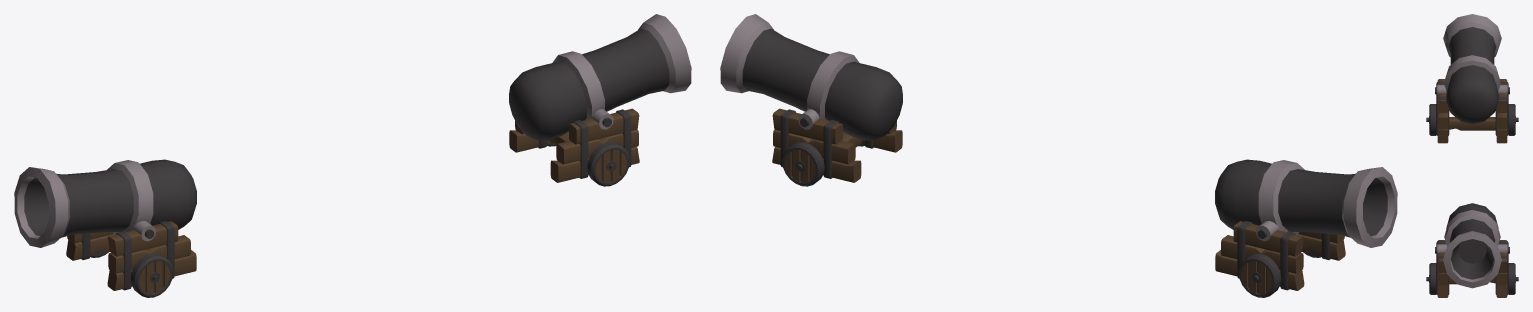
File: nau inimiga canhao canhoes.fbx
3 renders of one model, left to right at view 1: azimuth 30°, elevation 25°; view 2: azimuth 150°, elevation 25°; view 3: azimuth 270°, elevation 25°, orthographic. The views are drawn at different scales.
Visible parts, largest first — view 1: Prop_Cannon.002, Prop_Cannon; view 2: Prop_Cannon.002, Prop_Cannon; view 3: Prop_Cannon, Prop_Cannon.002.
Boxes of the visible parts, box(x1,y1,x2,y2) form: Prop_Cannon.002: box(509, 14, 691, 186); Prop_Cannon: box(14, 159, 196, 297); Prop_Cannon.002: box(720, 14, 902, 186); Prop_Cannon: box(1215, 159, 1397, 297); Prop_Cannon: box(1426, 14, 1518, 143); Prop_Cannon.002: box(1426, 203, 1518, 297).
Size of the model in its own units: 393 by 73.9 by 67.97.
